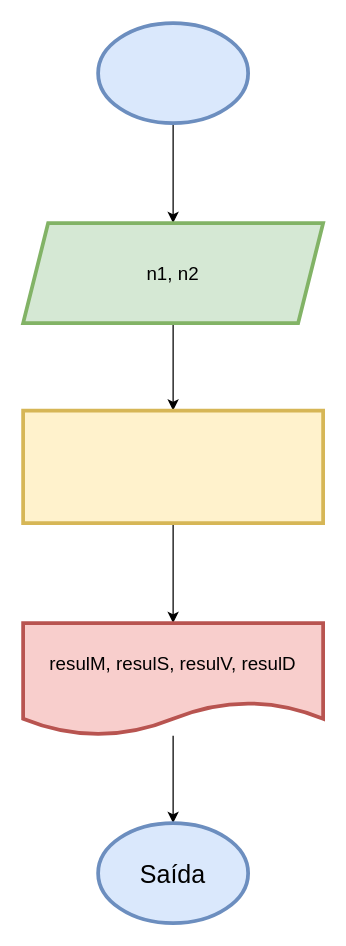
Image size: 346x946. Some labels were removed from this diagram. The box of each missing label's shape, as (x1, y1, x2, y2) in pixels:
Início: (96, 21, 249, 124)
resulM = n1 + n2 resulS = n1 - n2 resulV = n1 * n2 resulD = n1 / n2: (21, 408, 324, 524)
